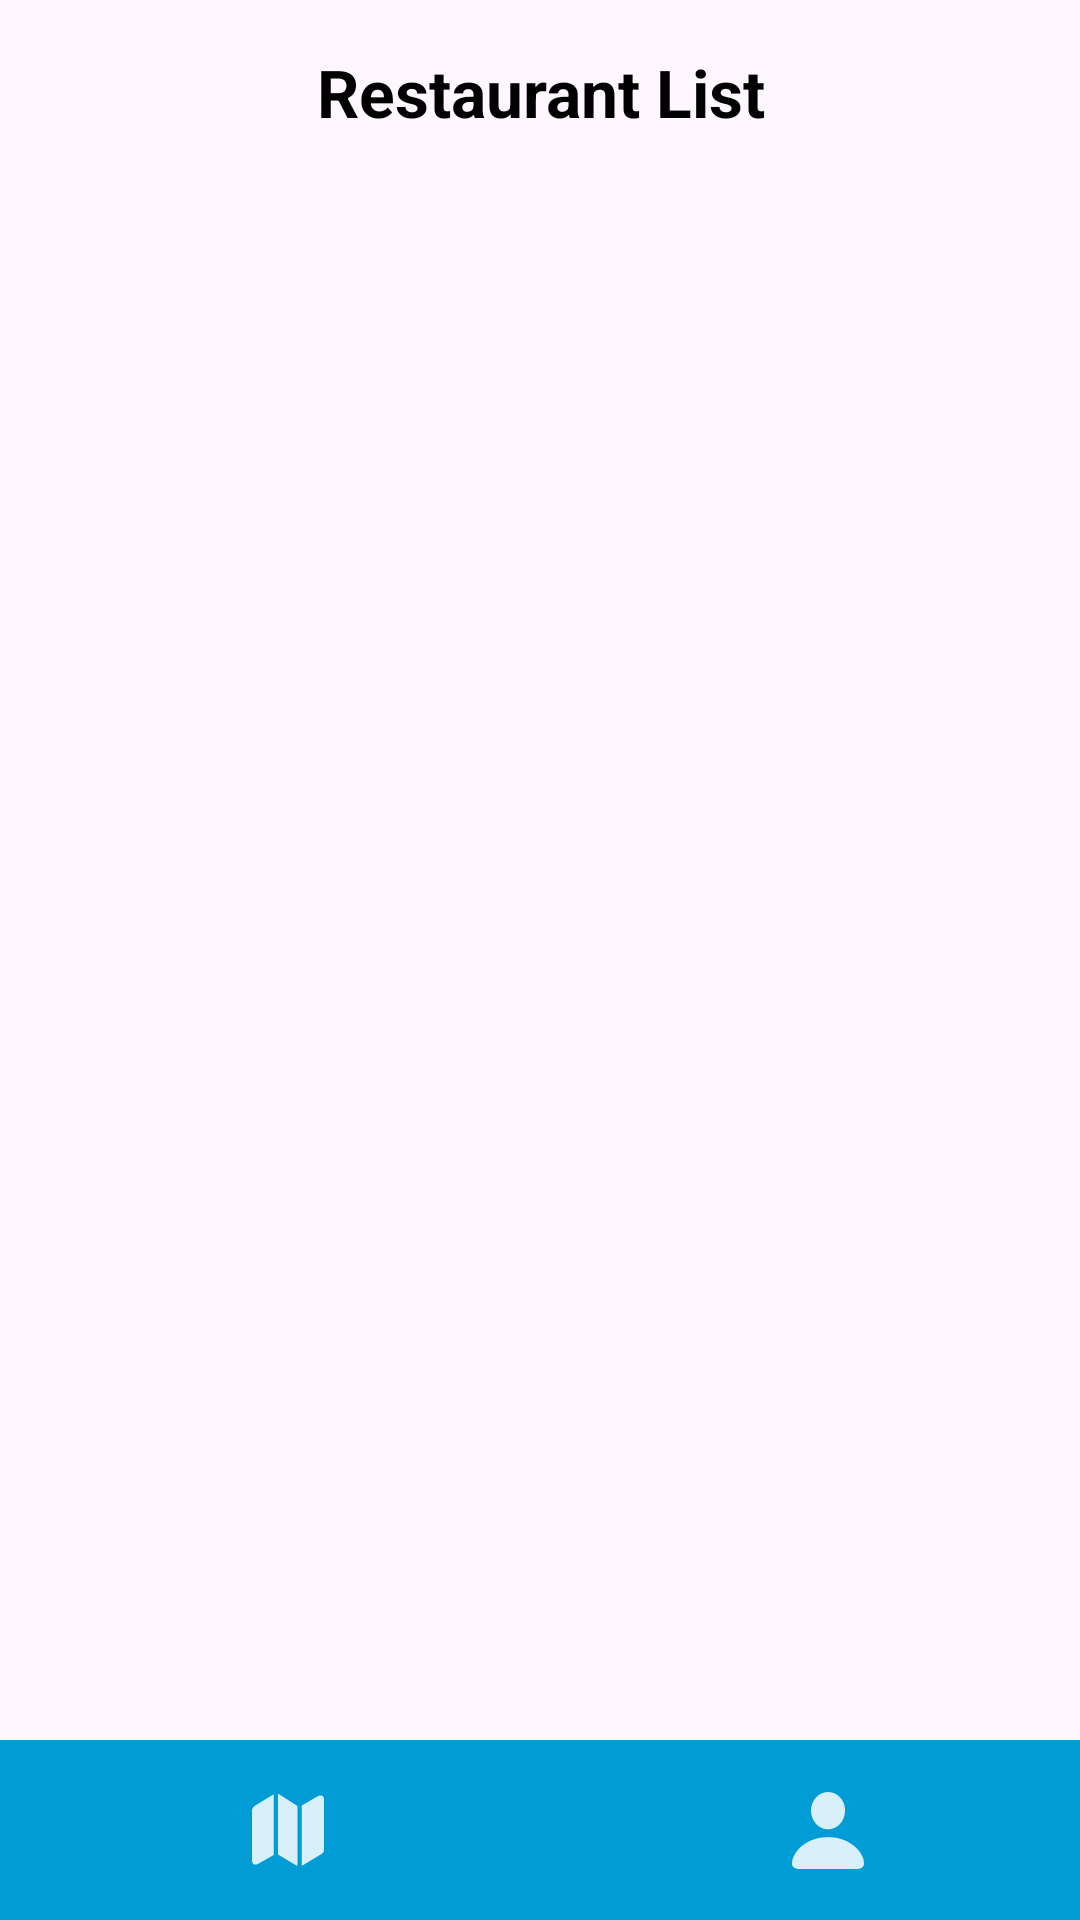

Icons on this 1080px×1920px Android screen, each with the point to tap as (x=x, y=y):
Profile: (x=828, y=1830)
